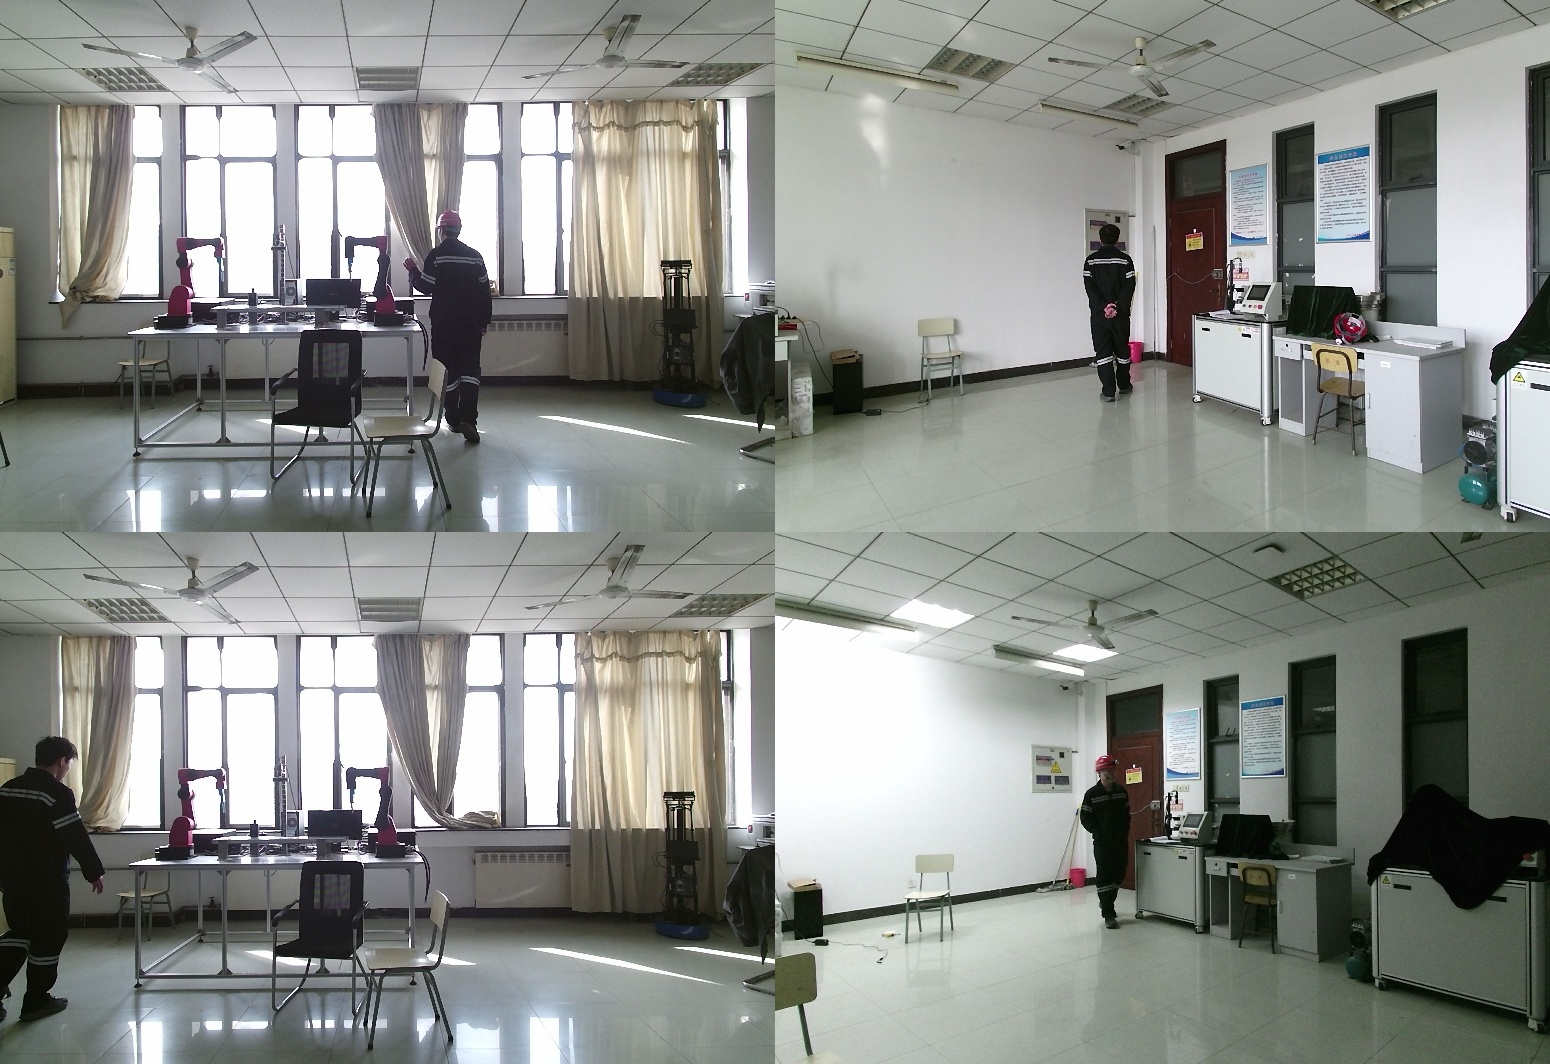person: (1, 736, 106, 1019), (406, 211, 502, 448), (1077, 224, 1140, 407), (1079, 756, 1137, 932)
